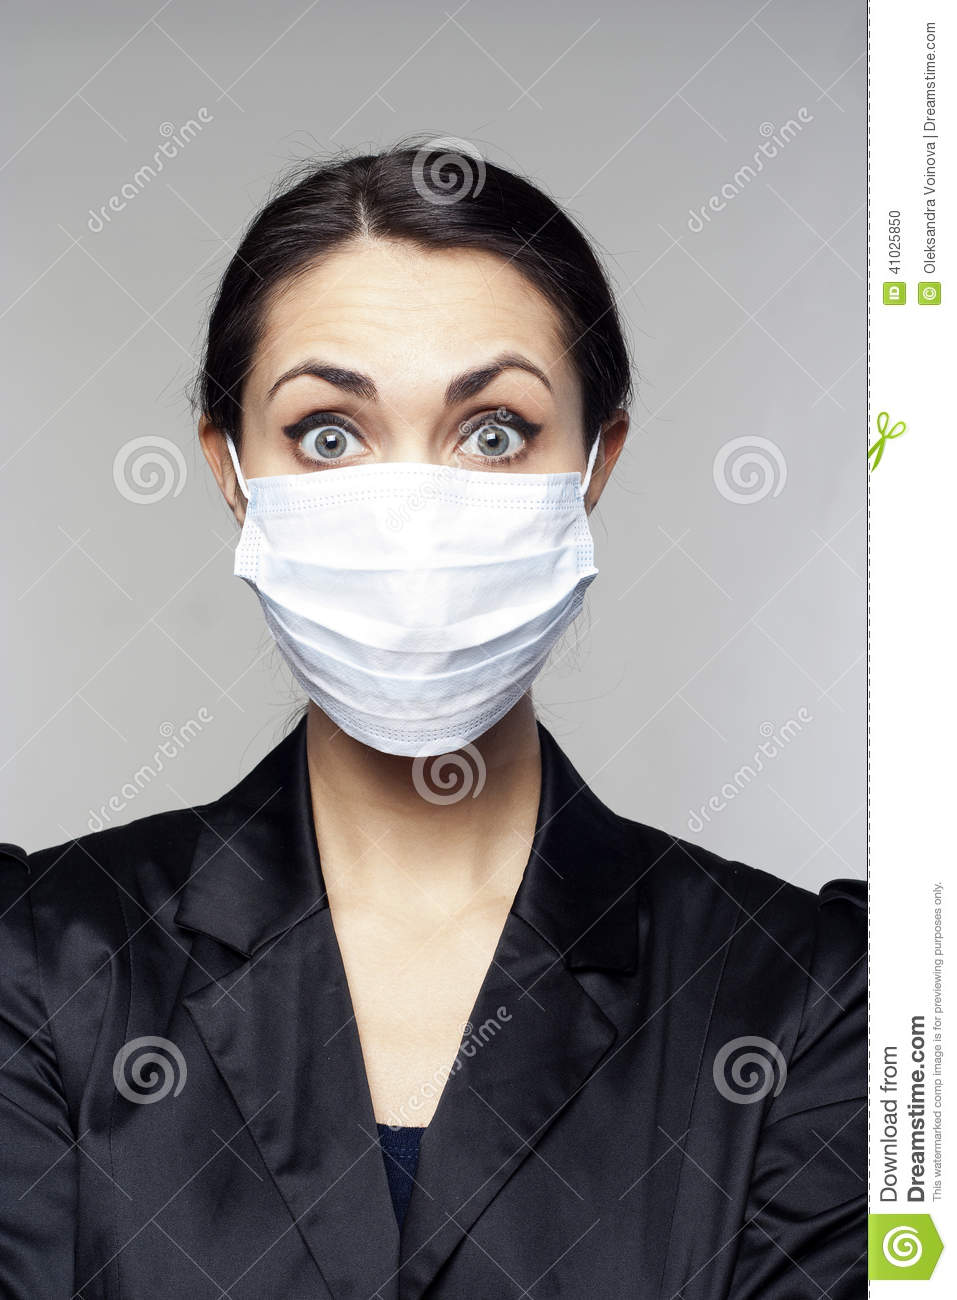mask: (231, 463, 593, 765)
